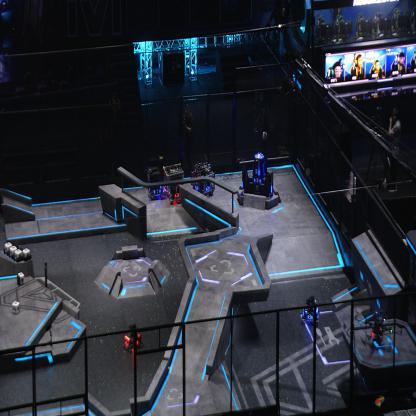car: (162, 161, 184, 205), (191, 161, 215, 196), (122, 323, 143, 351), (146, 166, 163, 200), (302, 295, 320, 326)
